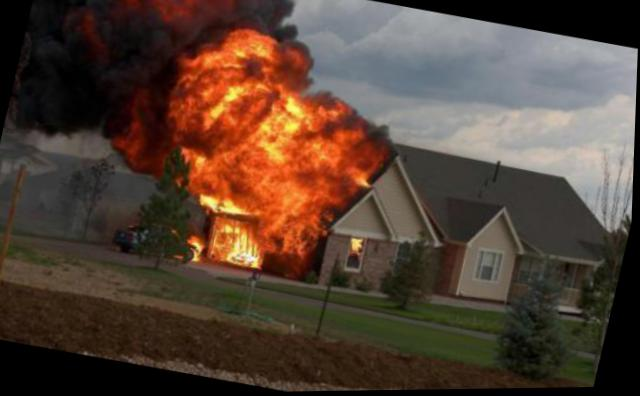fire: (161, 19, 289, 162), (182, 149, 343, 229), (260, 93, 386, 183), (254, 211, 320, 264), (211, 217, 268, 267), (184, 235, 209, 262), (349, 235, 363, 253)
